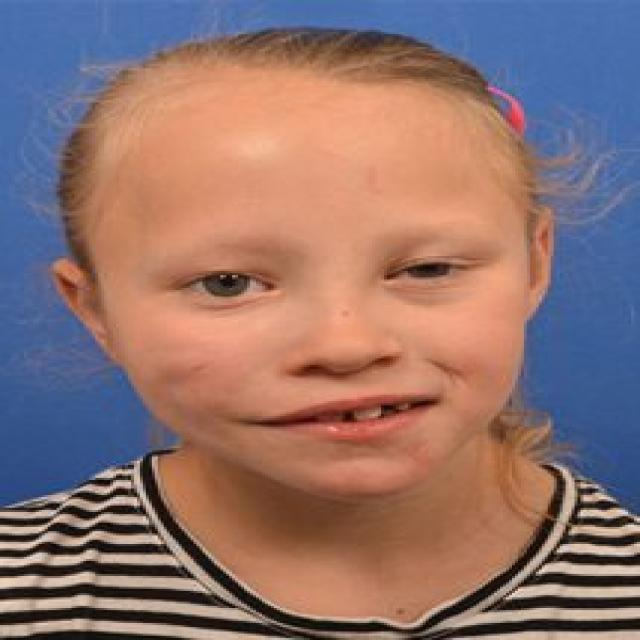stroke_face: (97, 99, 543, 473)
